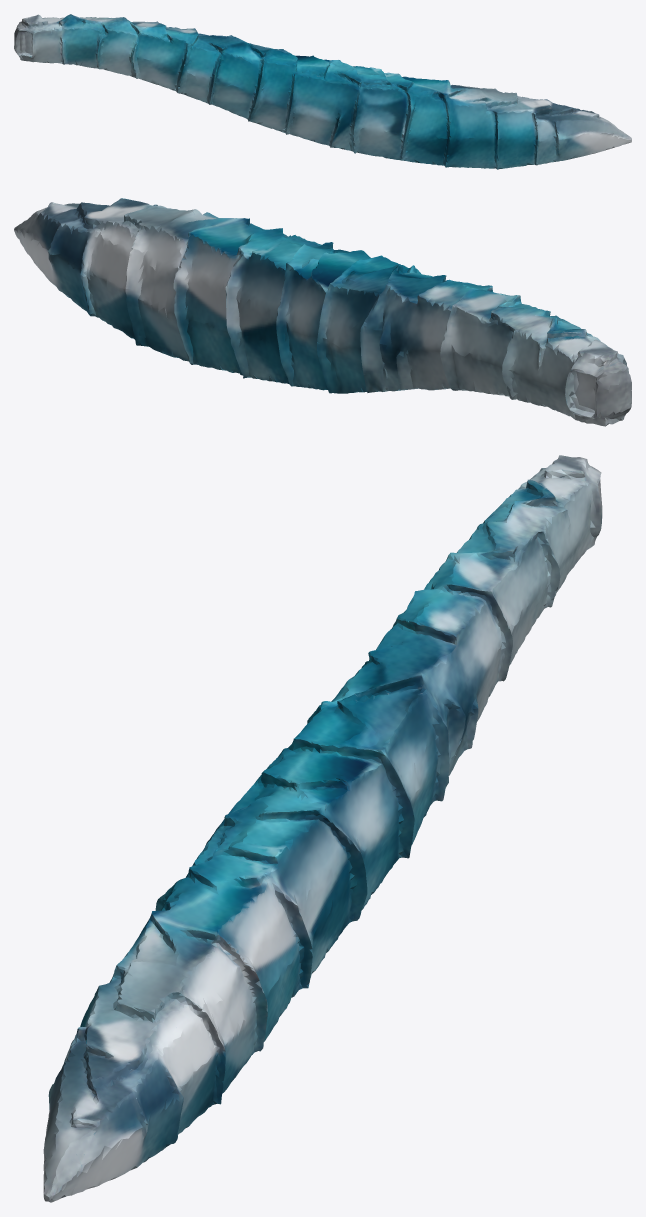
Rendered from boomerang.glb.
3 renders of one model, top to bottom at view 1: azimuth 30°, elevation 25°; view 2: azimuth 150°, elevation 25°; view 3: azimuth 270°, elevation 25°, orthographic. The views are drawn at different scales.
Visible parts, largest first — view 1: boomerang; view 2: boomerang; view 3: boomerang.
Part boxes in pixels (bbox=[...]): boomerang: bbox=[14, 14, 631, 169]; boomerang: bbox=[14, 198, 631, 426]; boomerang: bbox=[43, 455, 602, 1202].
Bounding box in the file's own units: 1.89 × 0.5636 × 0.9407.
1 material, 1 textured.
